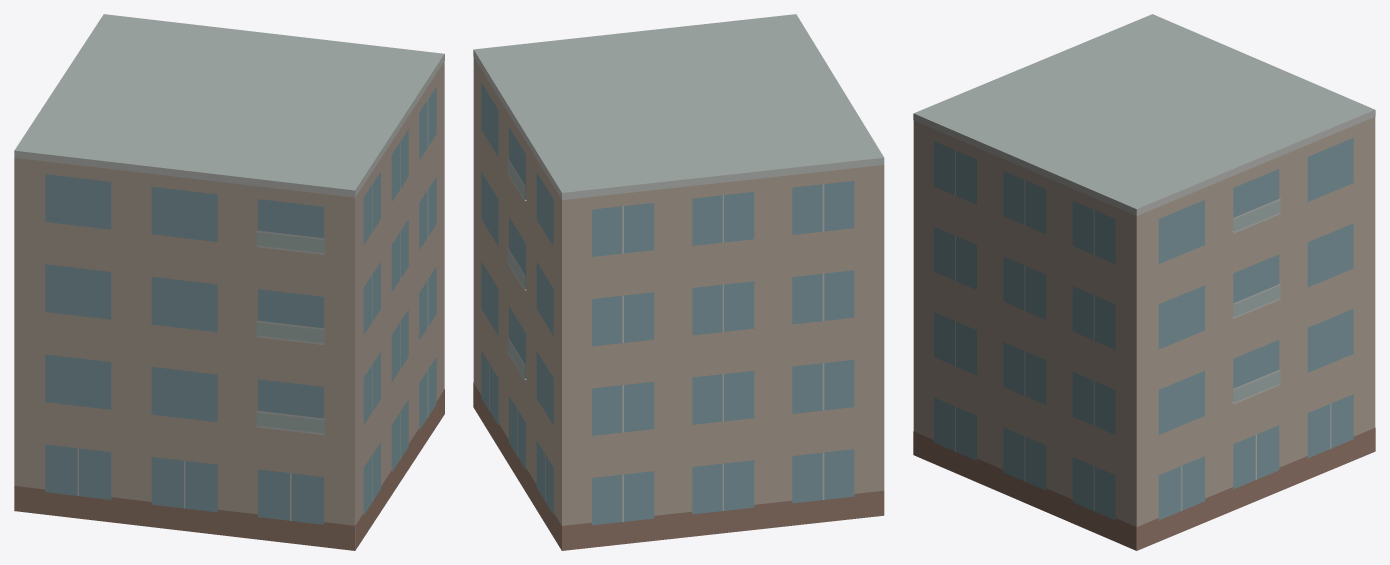
File: residential-718ec0a2-0135-401f-99b6-0e678fa3f885.glb
3 views of the same model, side by side, from view 1: azimuth 30°, elevation 25°; view 2: azimuth 150°, elevation 25°; view 3: azimuth 270°, elevation 25° (orthographic). The views are drawn at different scales.
Visible parts, largest first — view 1: residential-718ec0a2-0135-401f-99b6-0e678fa3f885.tmp; view 2: residential-718ec0a2-0135-401f-99b6-0e678fa3f885.tmp; view 3: residential-718ec0a2-0135-401f-99b6-0e678fa3f885.tmp.
Boxes of the visible parts, x1,y1,x2,y2 form: residential-718ec0a2-0135-401f-99b6-0e678fa3f885.tmp: [14, 14, 444, 550]; residential-718ec0a2-0135-401f-99b6-0e678fa3f885.tmp: [473, 14, 884, 550]; residential-718ec0a2-0135-401f-99b6-0e678fa3f885.tmp: [913, 14, 1375, 550].
Size of the model in its own units: 14.96 by 12.2 by 14.96.
